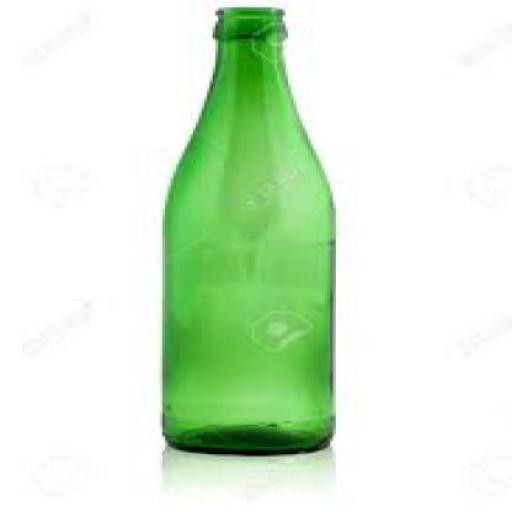glass: (157, 6, 333, 454)
